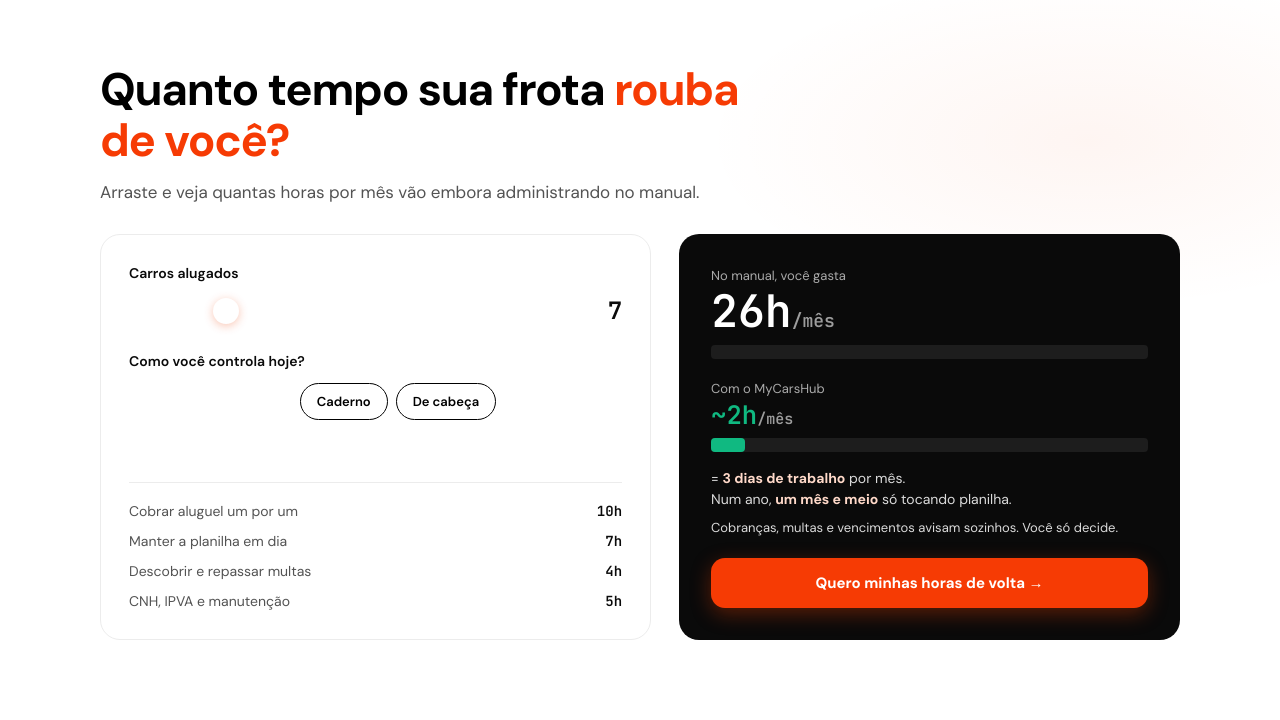
Test: LandingSimulatorComponent › recalcula ao mover o slider
Set the slider labelled "Carros alugados" to "15" at (338,311), box [129, 307, 562, 315]
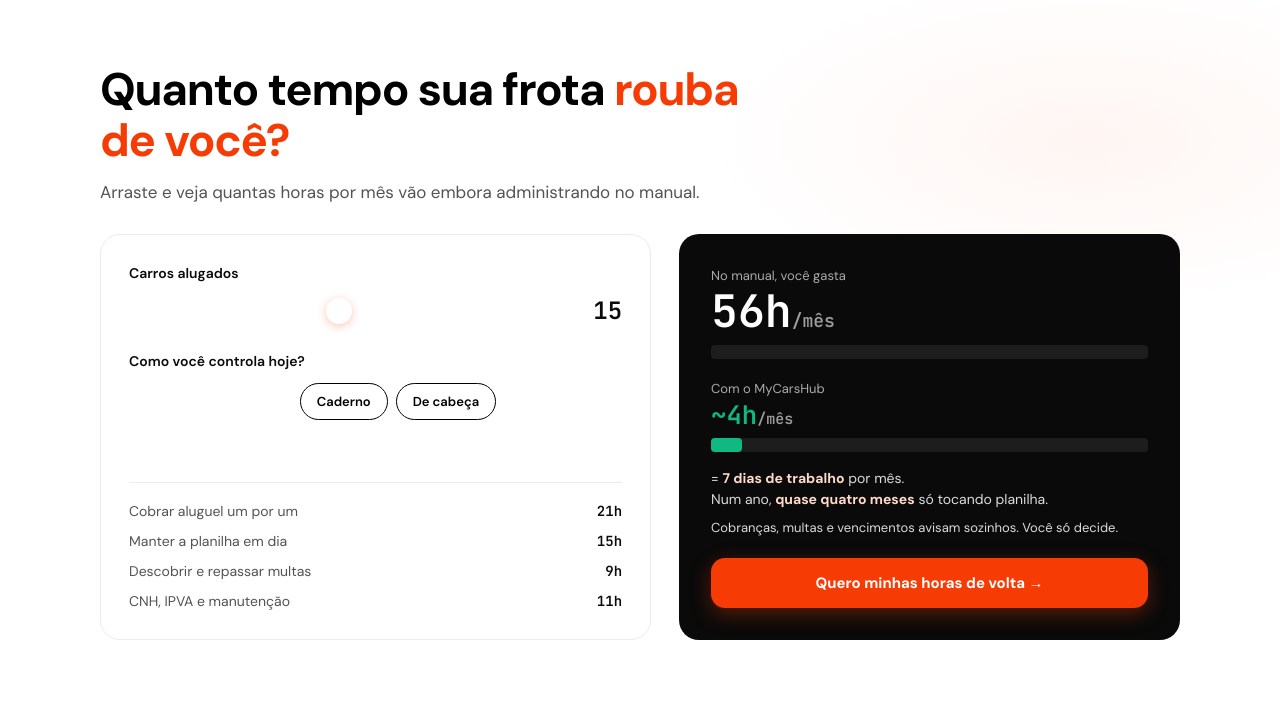
Check: the text "56h" is shown, box [711, 281, 792, 340]
Check: the text "~4h" is shown, box [711, 398, 757, 432]
